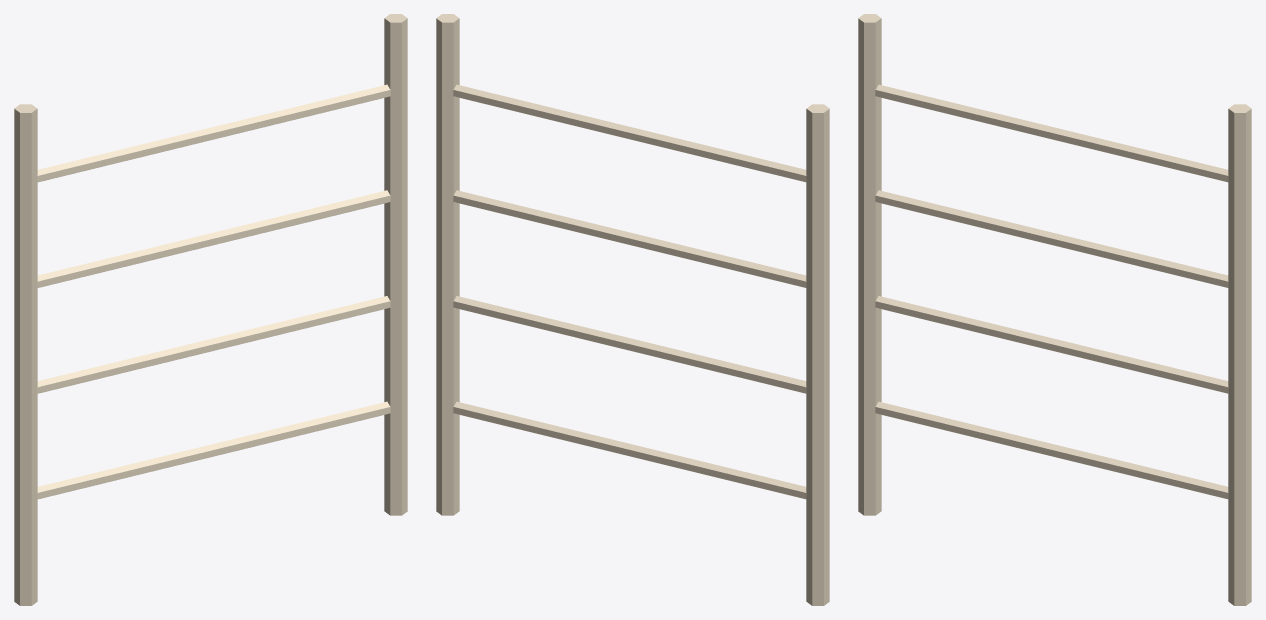
The picture shows the model from 3 angles, left to right: view 1: azimuth 30°, elevation 25°; view 2: azimuth 150°, elevation 25°; view 3: azimuth 330°, elevation 25°; orthographic projection.
Visible parts, largest first — view 1: Trellis upright, Trellis upright.001, Trellis crossbar.001, Trellis crossbar, Trellis crossbar.002, Trellis crossbar.003; view 2: Trellis upright, Trellis upright.001, Trellis crossbar.001, Trellis crossbar, Trellis crossbar.002, Trellis crossbar.003; view 3: Trellis upright.001, Trellis upright, Trellis crossbar.001, Trellis crossbar, Trellis crossbar.002, Trellis crossbar.003.
Boxes of the visible parts, left/top/right/bottom form: Trellis upright: left=14, top=104, right=37, bottom=605; Trellis upright.001: left=384, top=14, right=407, bottom=515; Trellis crossbar.001: left=37, top=296, right=390, bottom=393; Trellis crossbar: left=37, top=401, right=390, bottom=499; Trellis crossbar.002: left=37, top=190, right=390, bottom=287; Trellis crossbar.003: left=37, top=84, right=390, bottom=182; Trellis upright: left=806, top=104, right=829, bottom=605; Trellis upright.001: left=436, top=14, right=459, bottom=515; Trellis crossbar.001: left=453, top=296, right=806, bottom=393; Trellis crossbar: left=453, top=401, right=806, bottom=499; Trellis crossbar.002: left=453, top=190, right=806, bottom=287; Trellis crossbar.003: left=453, top=84, right=806, bottom=182; Trellis upright.001: left=1228, top=104, right=1251, bottom=605; Trellis upright: left=858, top=14, right=881, bottom=515; Trellis crossbar.001: left=875, top=296, right=1228, bottom=393; Trellis crossbar: left=875, top=401, right=1228, bottom=499; Trellis crossbar.002: left=875, top=190, right=1228, bottom=287; Trellis crossbar.003: left=875, top=84, right=1228, bottom=182.
Bounding box in the file's own units: 1.15 × 1.4 × 0.06.
1 material, 1 textured.
